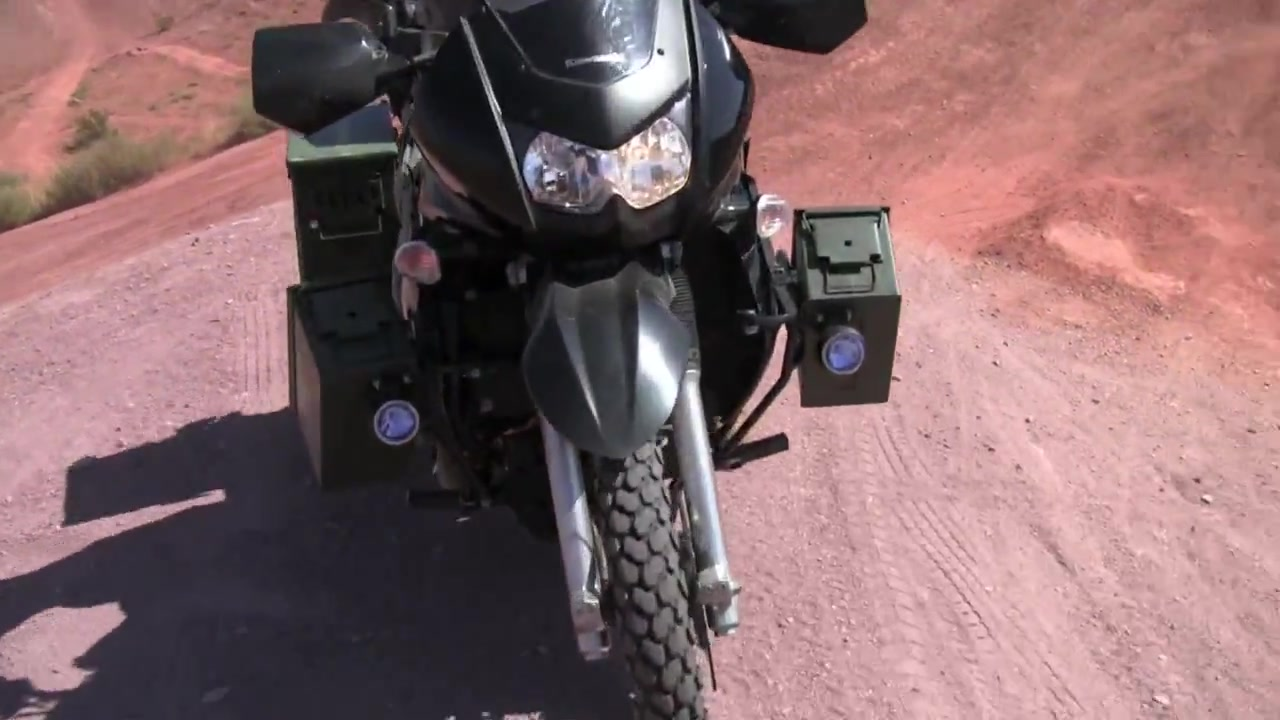motorbike: (250, 3, 871, 720)
